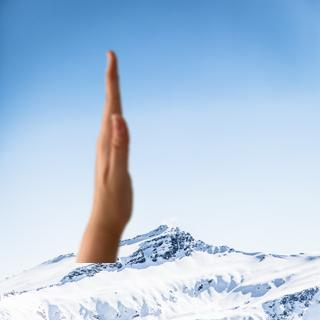Right: (82, 43, 146, 249)
